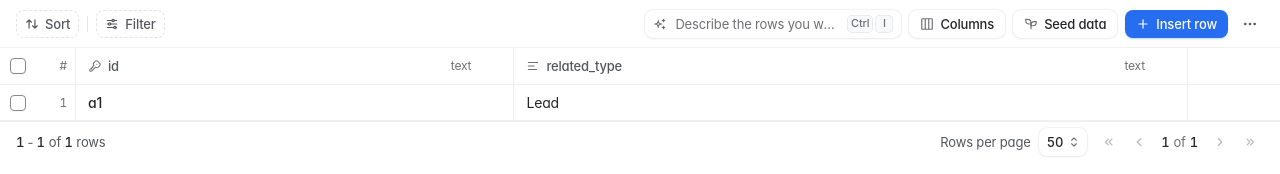
Test: after a cell edit › offers the undo, and marks the row it belongs to
Step 1. Double-click the text "Lead" → (543, 102), box [526,94,559,110]
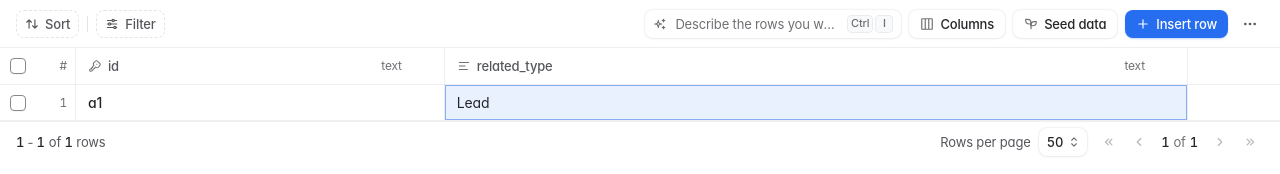
Step 2. Replace the text in the field showing "Lead" with "Customer" → (816, 102), box [457,92,1175,112]
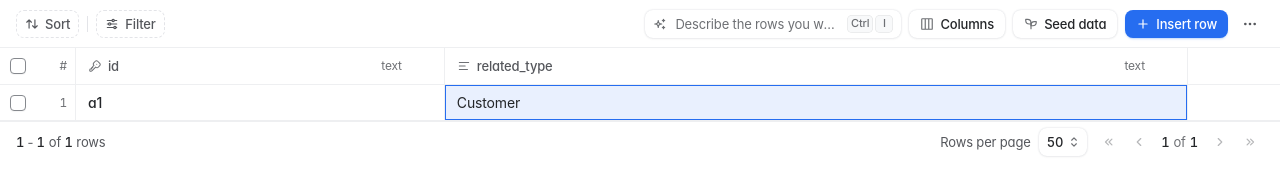
Step 3. Press Enter in the field showing "Lead", box [457,92,1175,112]
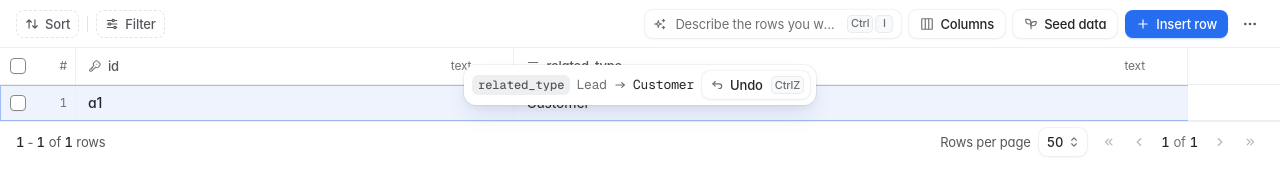
Expected: the row "1 a1 Customer" is shown, [0,85,1279,121]
Expected: the button "Undo" is shown, [702,71,810,99]
